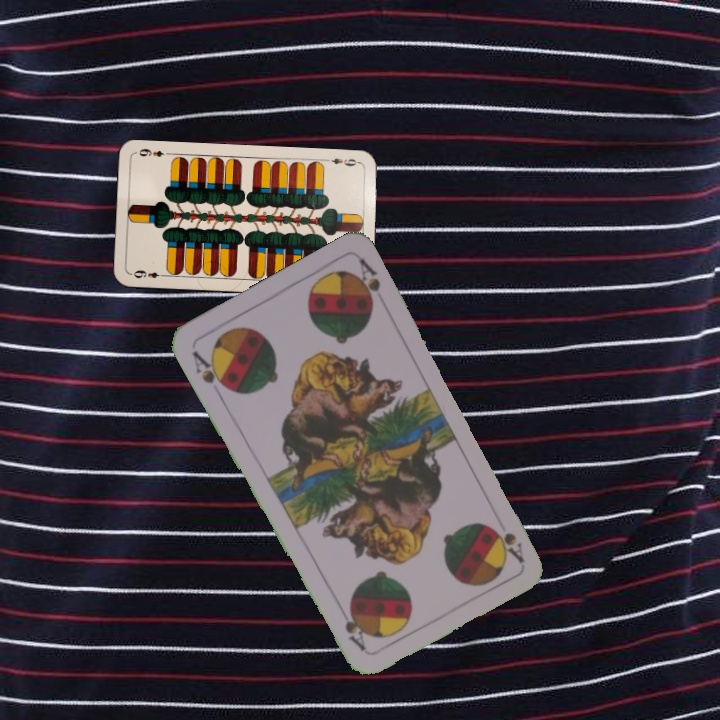E9: (322, 154, 362, 169), (130, 266, 168, 281)
SA: (188, 347, 232, 400), (491, 524, 527, 565)
